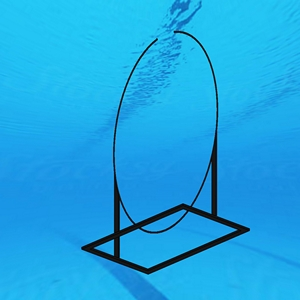circle: (81, 29, 252, 277)
